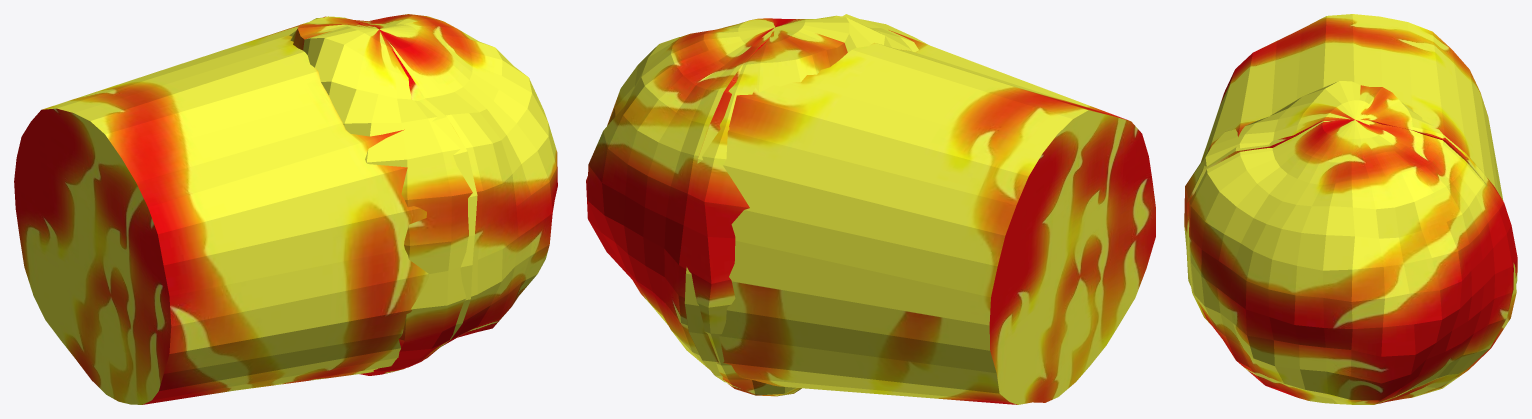
Rendered from blow.glb.
3 views of the same model, side by side, from view 1: azimuth 30°, elevation 25°; view 2: azimuth 150°, elevation 25°; view 3: azimuth 270°, elevation 25° (orthographic). The views are drawn at different scales.
Visible parts, largest first — view 1: Cylindre; view 2: Cylindre; view 3: Cylindre.
Part boxes in pixels (left/top/right/bottom): Cylindre: left=14, top=14, right=557, bottom=404; Cylindre: left=586, top=14, right=1155, bottom=404; Cylindre: left=1184, top=14, right=1517, bottom=404.
Size of the model in its own units: 1.54 by 1.13 by 1.13.
Materials: 1 (1 with a texture image).
